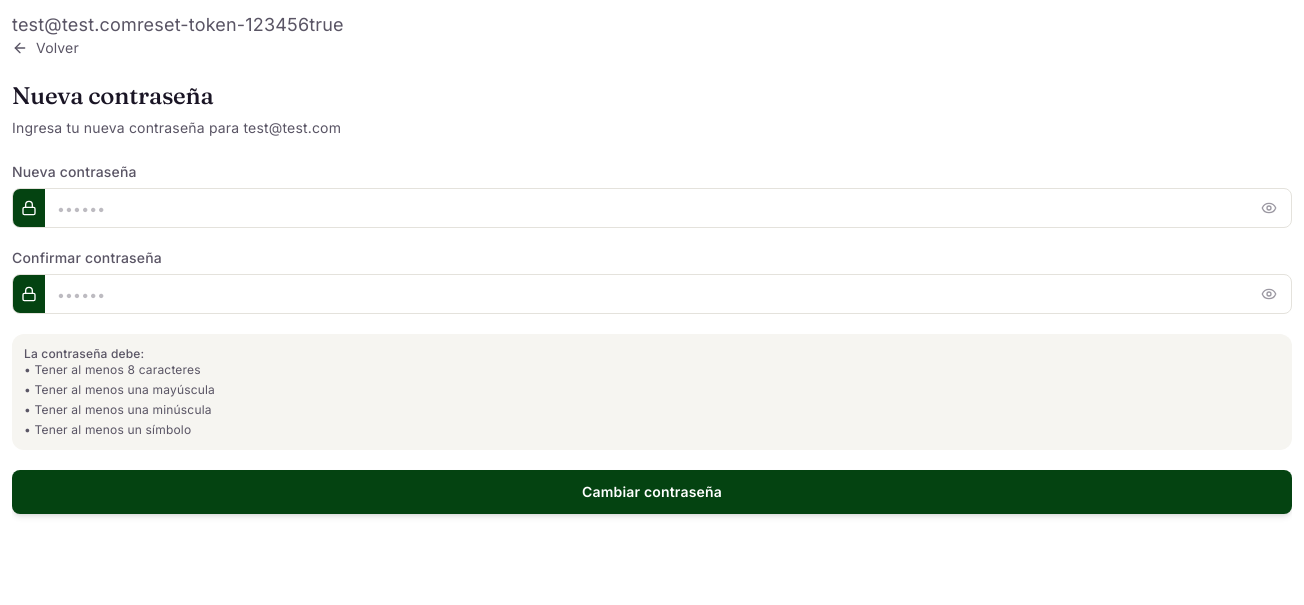
ResetPasswordPage › validates password confirmation mismatch
The image size is (1304, 605).
Type "Password123!" into the password field with placeholder "••••••".
click(651, 208); type("Password123!")  # box [45, 189, 1257, 227]
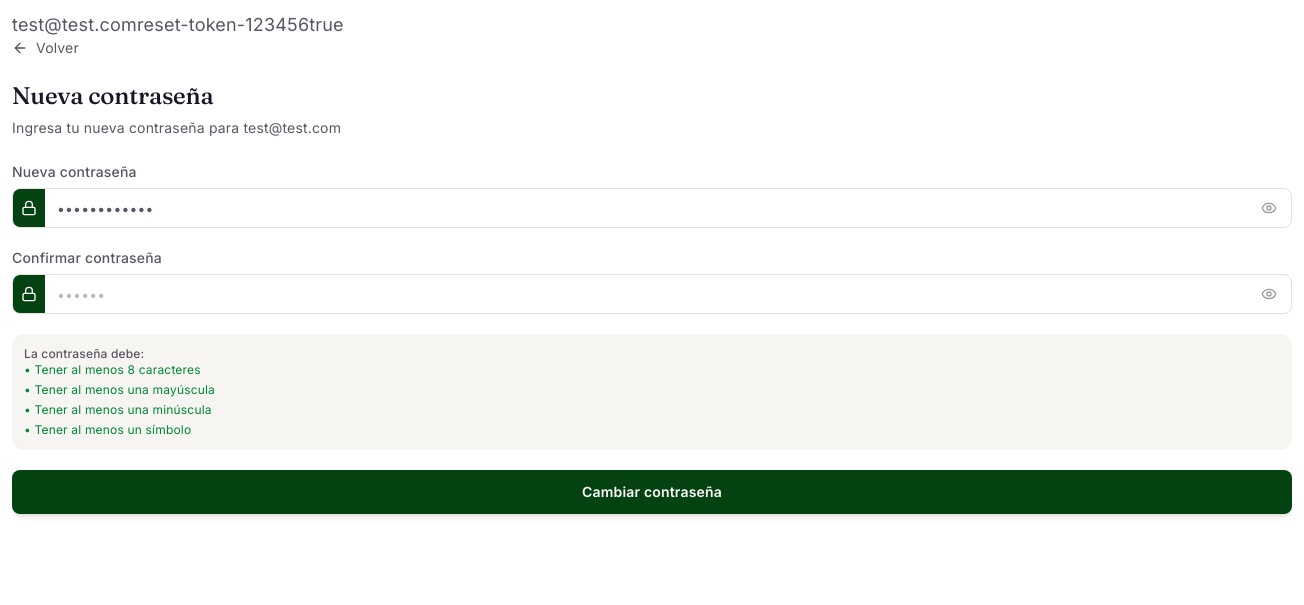
Type "different" into the password field with placeholder "••••••".
click(651, 294); type("different")  # box [45, 275, 1257, 313]
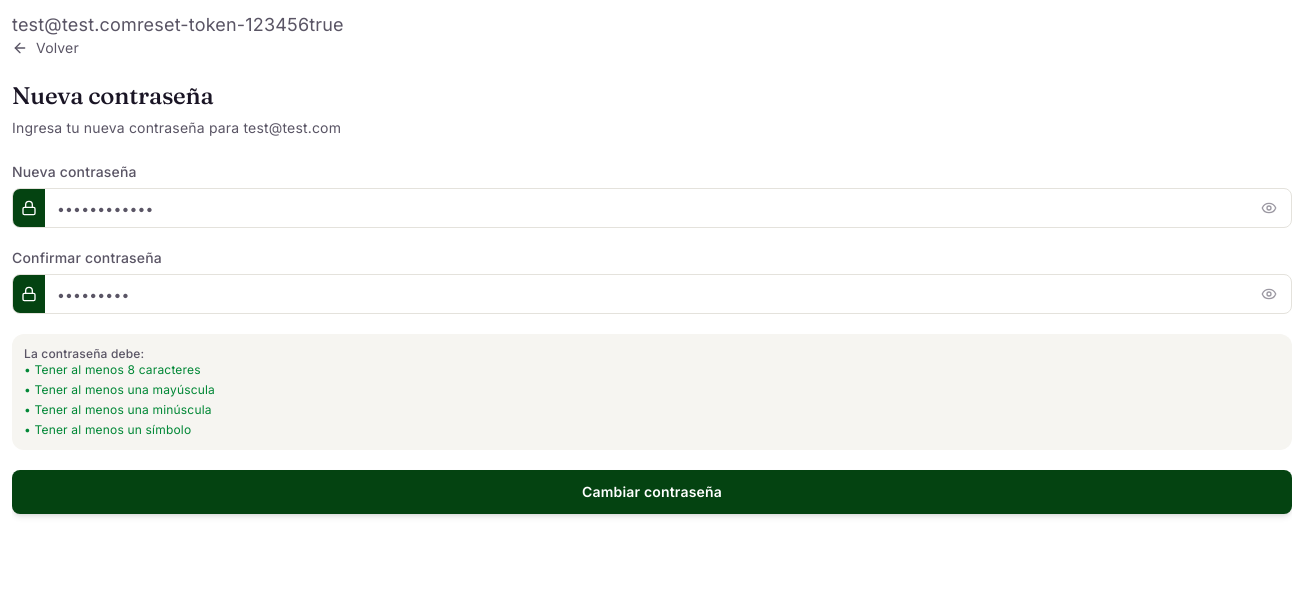
Submit the form named "cambiar contraseña", box [12, 162, 1292, 514]
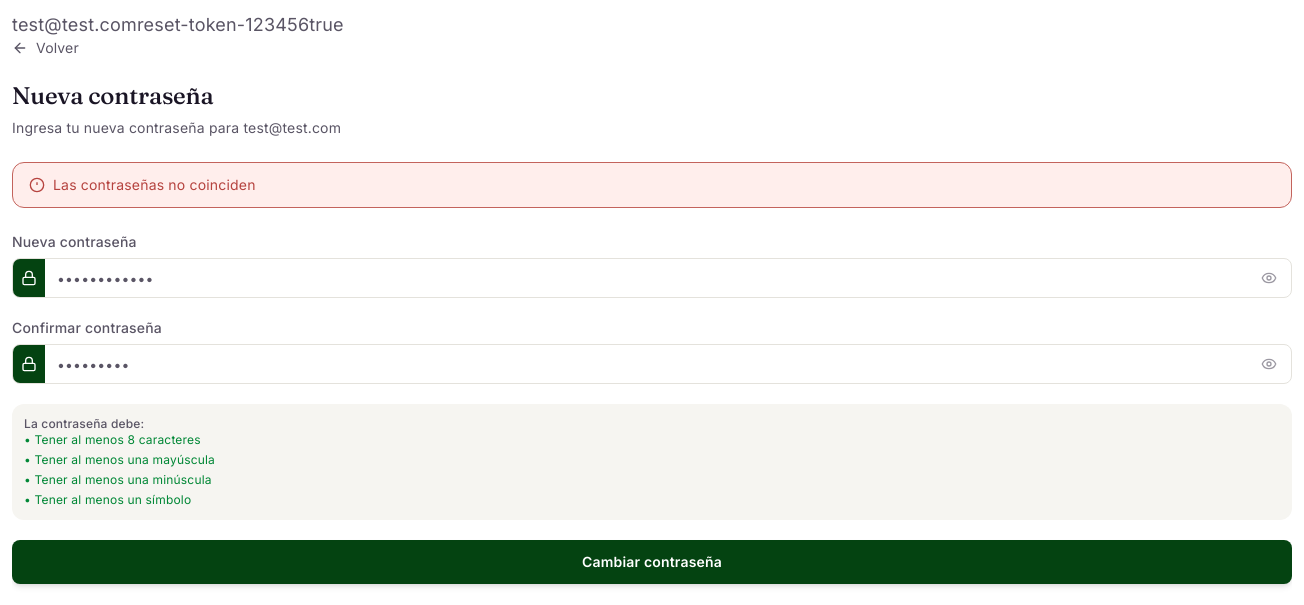
Expected: the text "Las contraseñas no coinciden" is shown, [12, 162, 1292, 208]
